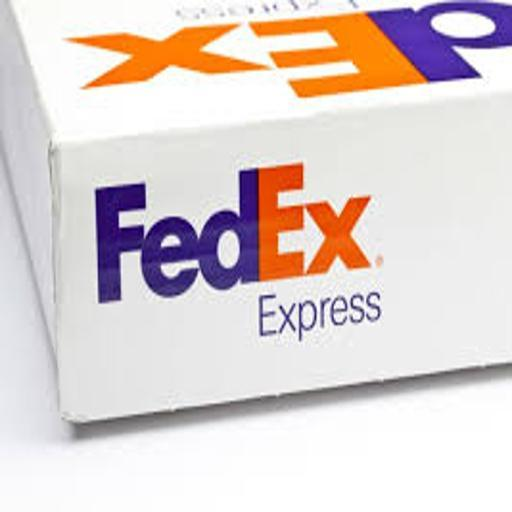FedEx: (0, 0, 512, 422)
